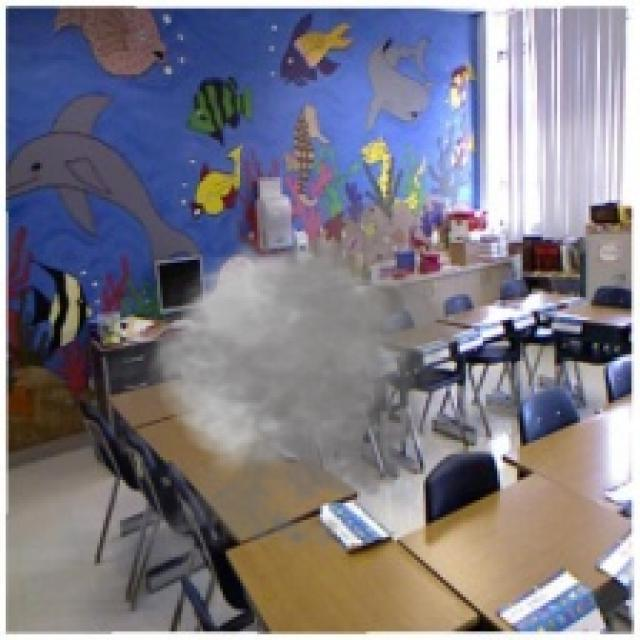Smoke: (80, 182, 486, 574)
